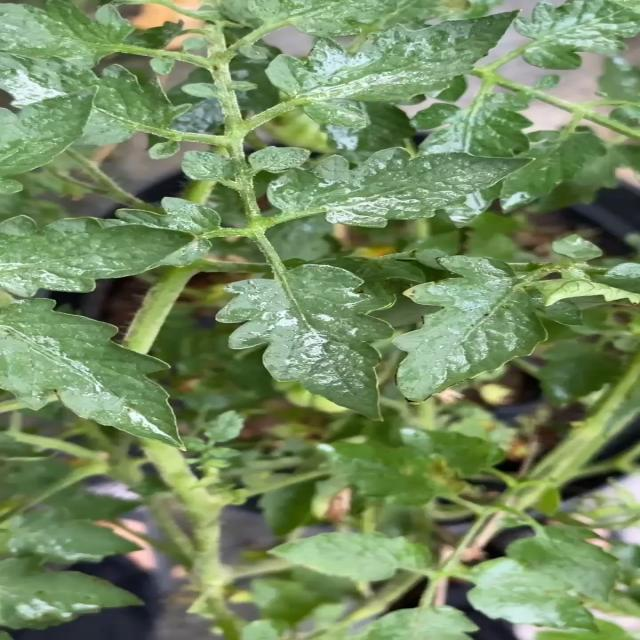Tomato_Healthy: (222, 258, 393, 433), (7, 323, 201, 466), (409, 246, 556, 409), (0, 199, 190, 313), (264, 159, 538, 220)
